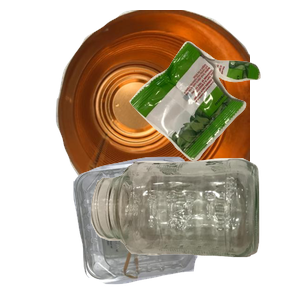glass: (88, 156, 300, 300)
metal: (53, 10, 293, 190)
plastic: (71, 154, 300, 300)
trash: (127, 39, 300, 193)
